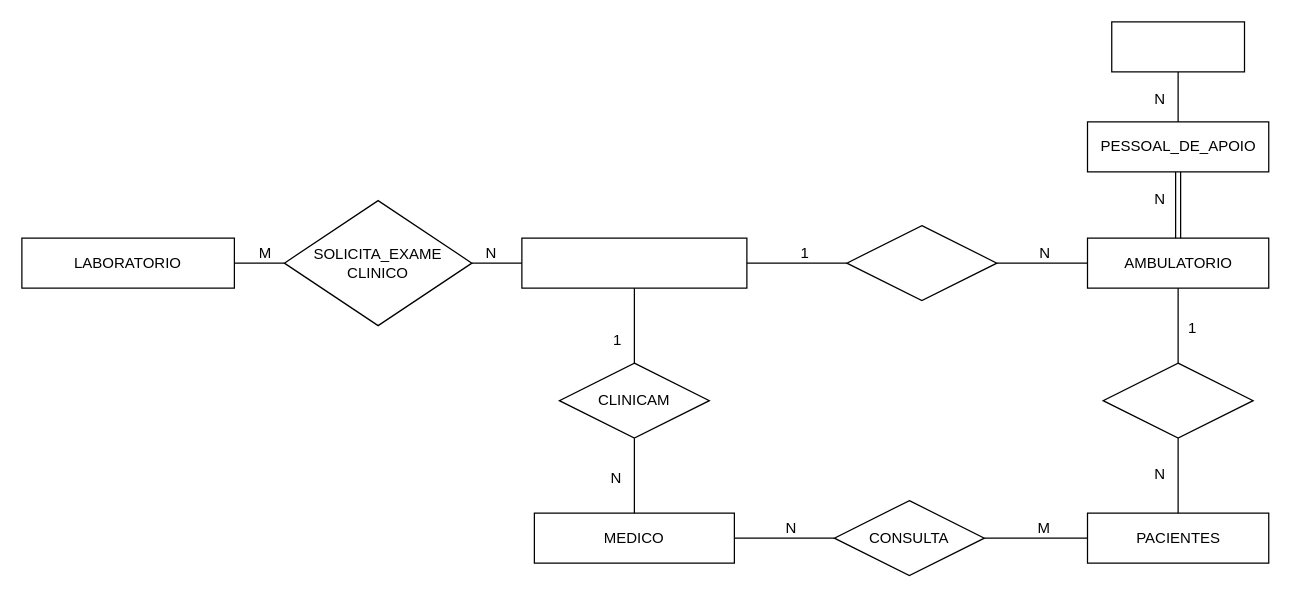
The diagram is 1291 pixels wide and 598 high, and some of its shapes have lost their labels. The centre of each missing label's shape, as x and y in pixels:
ATENDE: the point at 1177,400
HOSPITAL: the point at 634,262
INTEGRANTES: the point at 1177,46
POSSUI: the point at 921,262
